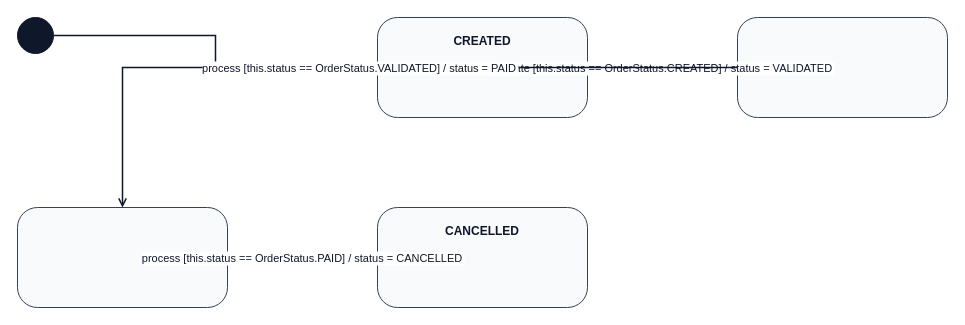
Some shapes in this 965 by 325 pixel diagram are drawn without their labels. Each missing label, with the box of its shape:
PAID: (16, 206, 228, 308)
VALIDATED: (736, 16, 948, 118)
